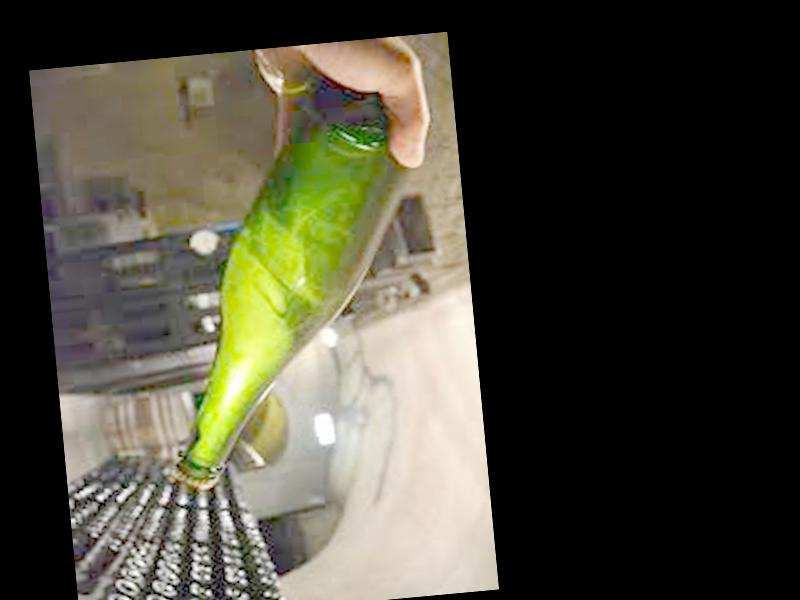Beer: (132, 74, 448, 493)
